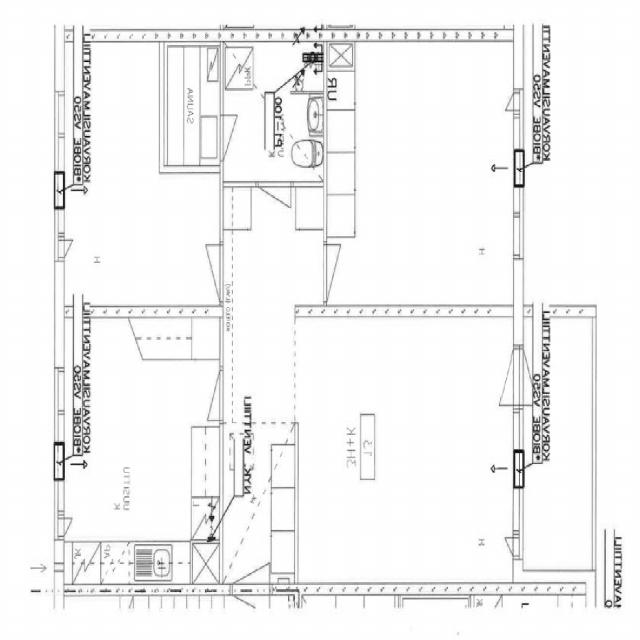door: (514, 347, 562, 406), (475, 347, 523, 406), (232, 526, 270, 596), (182, 244, 224, 302), (323, 245, 365, 302), (232, 583, 270, 640), (186, 371, 224, 421), (258, 182, 291, 237), (220, 115, 254, 161)
